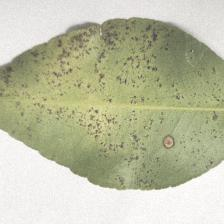canker: (49, 28, 185, 176)
